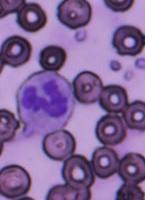N: (16, 70, 75, 136)
